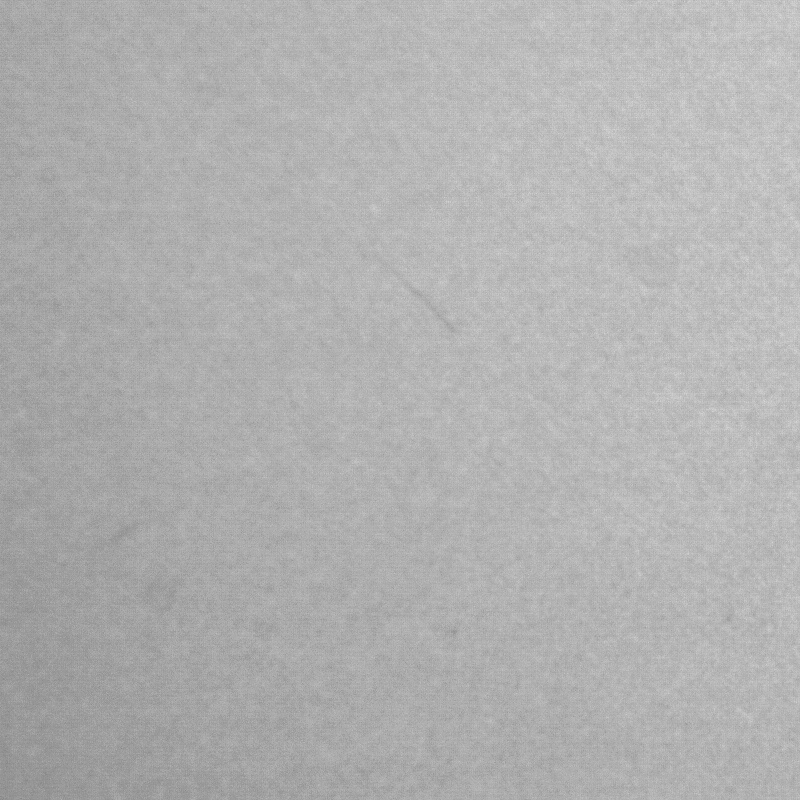defect: (407, 286, 464, 337)
